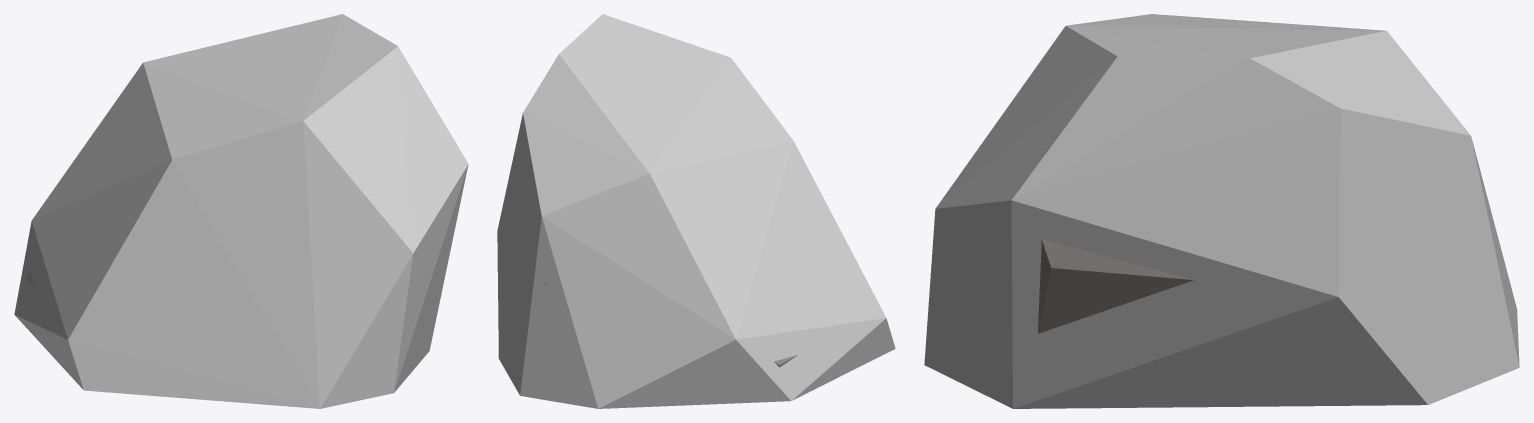
The model's file is SM_Rock_04.fbx.
3 renders of one model, left to right at view 1: azimuth 30°, elevation 25°; view 2: azimuth 150°, elevation 25°; view 3: azimuth 270°, elevation 25°, orthographic. The views are drawn at different scales.
Visible parts, largest first — view 1: SM_Rock_04_ConvexHulls; view 2: SM_Rock_04_ConvexHulls; view 3: SM_Rock_04_ConvexHulls, SM_Rock_04.
Boxes of the visible parts, x1,y1,x2,y2 form: SM_Rock_04_ConvexHulls: (14,14,468,408); SM_Rock_04_ConvexHulls: (497,14,895,408); SM_Rock_04_ConvexHulls: (924,14,1519,408); SM_Rock_04: (1038,211,1488,333).
Size of the model in its own units: 53.42 by 61.29 by 40.73.
Materials: 2 (1 with a texture image).
